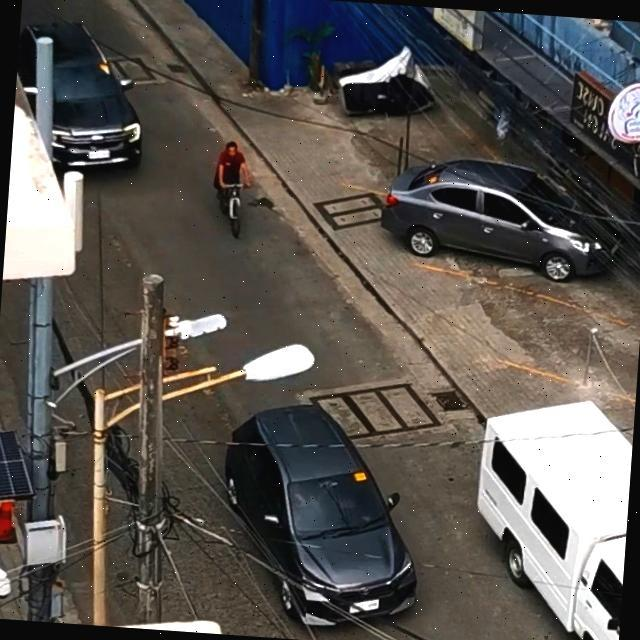Bike: (212, 172, 248, 240)
